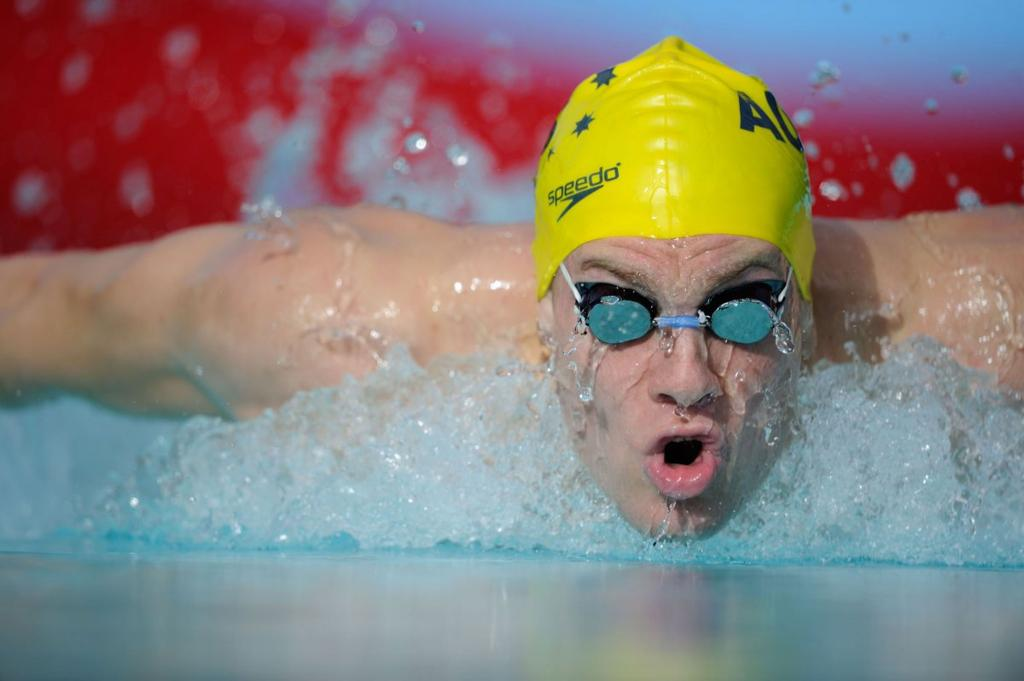face: (556, 208, 796, 534)
